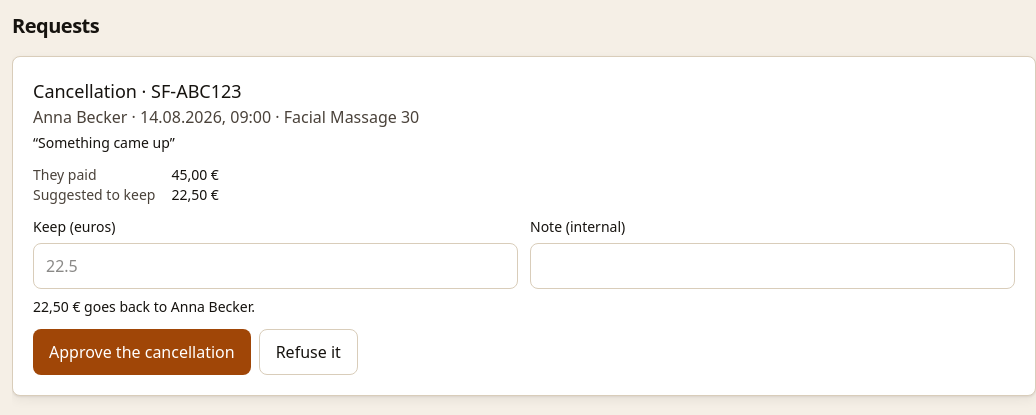
Test: RequestsPage › reloads after a decision, so a stale queue is never left on screen
Click the button with test id "approve".
click(142, 352)  # box left=33, top=329, right=251, bottom=375
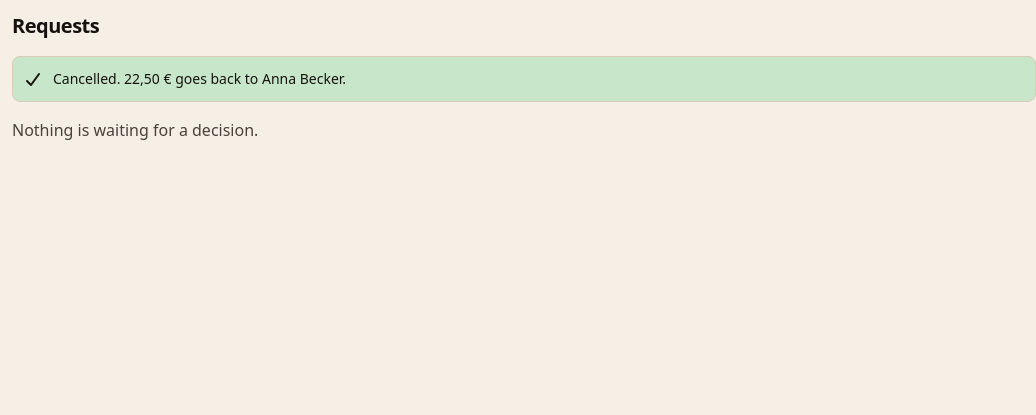
Expected: the text "Nothing is waiting for a decision." is shown, left=12, top=119, right=258, bottom=141
